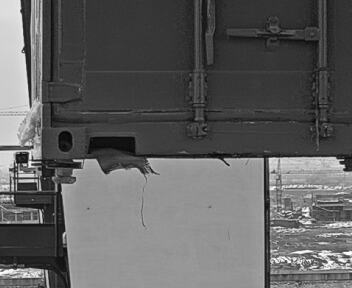twist_lock_1: (38, 153, 90, 193)
